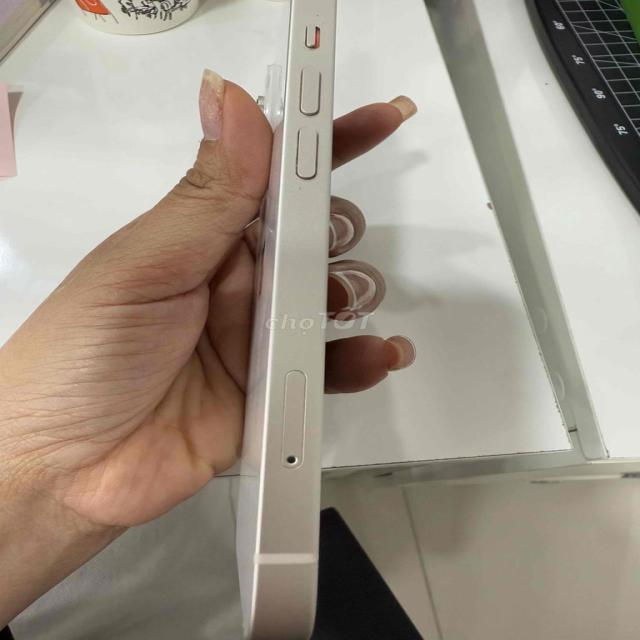gen_14: (236, 0, 352, 627)
